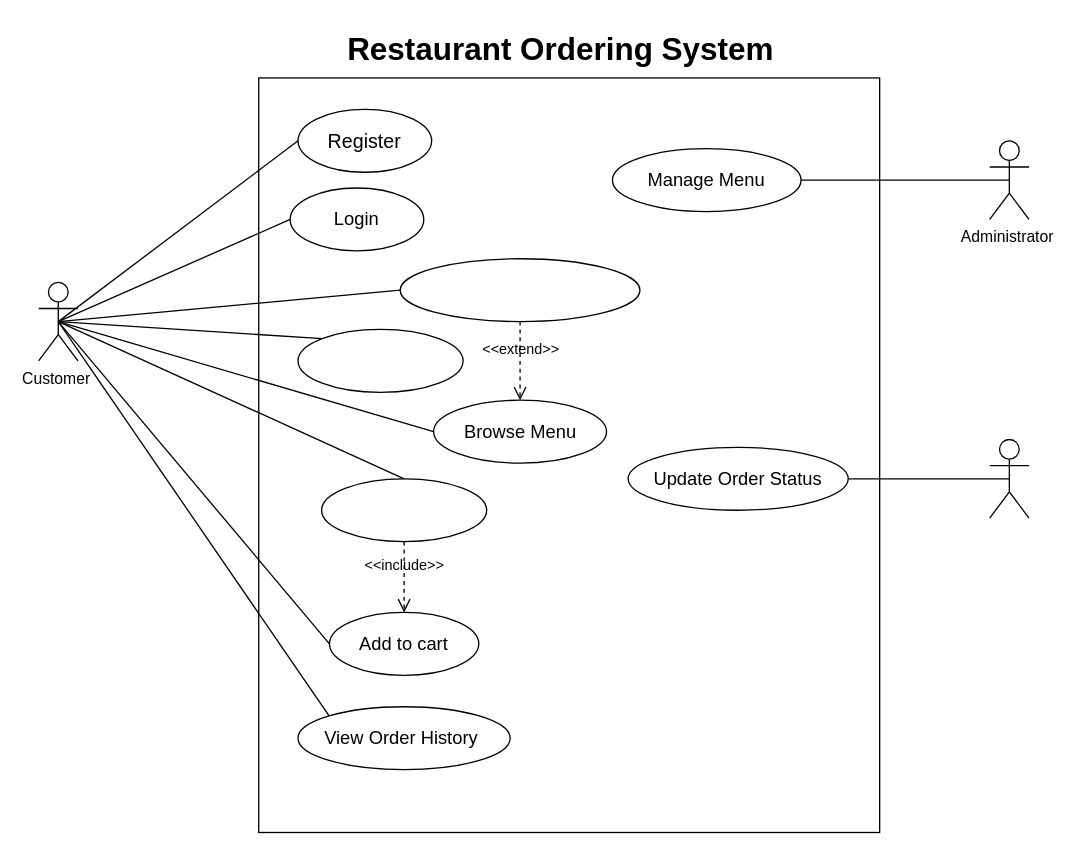
Some shapes in this 1091 by 855 pixel diagram are drawn without their labels. Each missing label, with the centre of its shape:
"Place order" goes at (403,509).
"Restaurant Staff" goes at (1008,478).
"Search Food Items" goes at (519,289).
"Track Order" goes at (380,360).
